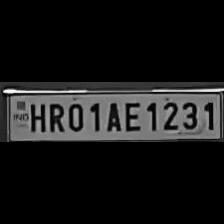0: (64, 100, 86, 132)
1: (86, 100, 102, 132), (143, 99, 159, 131), (201, 99, 217, 130)
2: (160, 99, 178, 131)
3: (179, 98, 199, 130)
A: (103, 100, 121, 132)
E: (122, 98, 142, 132)
H: (27, 100, 45, 132)
R: (44, 100, 64, 134)
